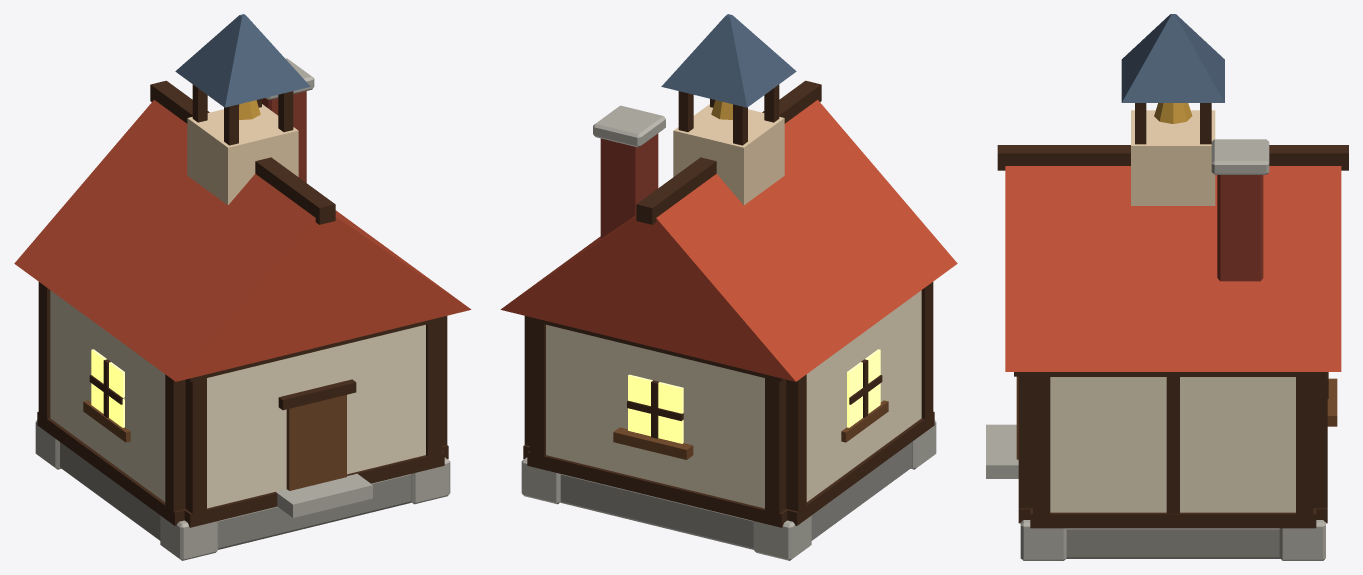
File: town_hall.glb
3 views of the same model, side by side, from view 1: azimuth 30°, elevation 25°; view 2: azimuth 150°, elevation 25°; view 3: azimuth 270°, elevation 25° (orthographic). The views are drawn at different scales.
Parts seen in each view (by area): view 1: roof_body, wall_plaster, wall_plaster.002, foundation_core, cupola_roof, cupola_base, door_leaf, roof_ridge, post, post.004, beam_bot, door_step (+14 smaller); view 2: roof_body, wall_plaster.001, wall_plaster.002, foundation_core, cupola_roof, cupola_base, chimney_shaft, beam_bot.001, roof_ridge, post.003, post.005, win_pane (+14 smaller); view 3: roof_body, wall_plaster.003, cupola_roof, cupola_base, foundation_core, chimney_shaft, beam_bot.003, roof_ridge, post.006, post.007, chimney_cap, post.001 (+10 smaller).
Boxes of the visible parts, x1,y1,x2,y2 form: roof_body: (14, 100, 471, 381); wall_plaster: (207, 324, 425, 508); wall_plaster.002: (50, 290, 165, 501); foundation_core: (59, 442, 411, 549); cupola_roof: (175, 14, 310, 107); cupola_base: (187, 104, 298, 204); door_leaf: (286, 395, 346, 490); roof_ridge: (150, 80, 335, 224); post: (185, 374, 206, 513); post.004: (165, 374, 185, 523); beam_bot: (183, 451, 444, 527); door_step: (276, 473, 372, 517); roof_body: (500, 100, 957, 381); wall_plaster.001: (546, 324, 764, 508); wall_plaster.002: (806, 290, 921, 501); foundation_core: (560, 442, 912, 549); cupola_roof: (661, 14, 796, 107); cupola_base: (673, 104, 784, 204); chimney_shaft: (600, 133, 658, 238); beam_bot.001: (527, 451, 788, 527); roof_ridge: (636, 80, 821, 224); post.003: (765, 374, 786, 526); post.005: (786, 374, 806, 524); win_pane: (628, 374, 683, 443); roof_body: (1005, 166, 1341, 371); wall_plaster.003: (1050, 377, 1295, 512); cupola_roof: (1121, 14, 1224, 102); cupola_base: (1131, 110, 1215, 205); foundation_core: (1066, 528, 1279, 558); chimney_shaft: (1217, 175, 1263, 281); beam_bot.003: (1030, 509, 1316, 528); roof_ridge: (997, 145, 1348, 170); post.006: (1296, 377, 1313, 528); post.007: (1033, 377, 1050, 528); chimney_cap: (1211, 139, 1269, 174); post.001: (1018, 372, 1032, 508).
Size of the model in its own units: 1.85 by 2.75 by 1.89.
